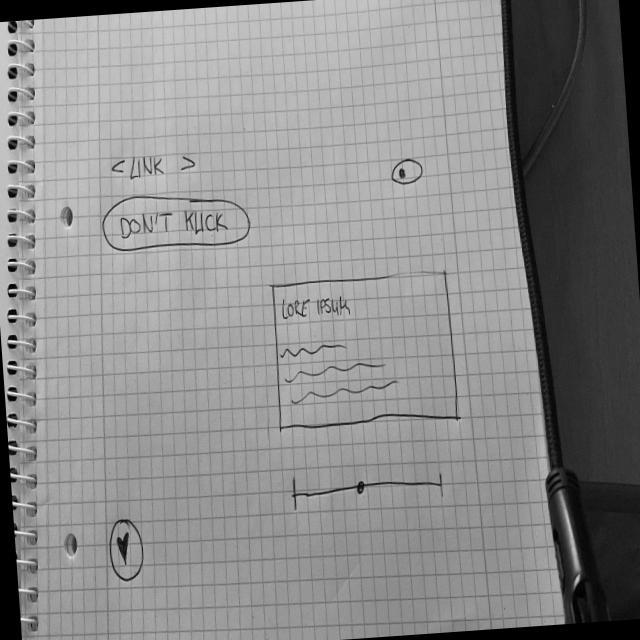button: (101, 187, 255, 258)
container: (269, 269, 466, 440)
icon-button: (107, 515, 148, 585)
label: (279, 287, 355, 326)
link: (109, 149, 198, 184)
slider: (289, 463, 448, 517)
textbox: (281, 337, 406, 409)
toggle: (390, 156, 425, 189)
